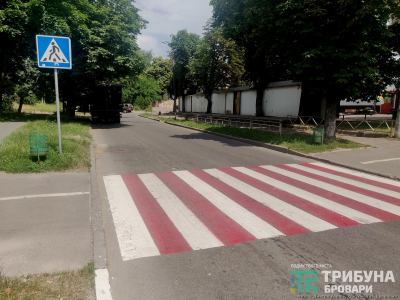crosswalk: (35, 36, 71, 68)
